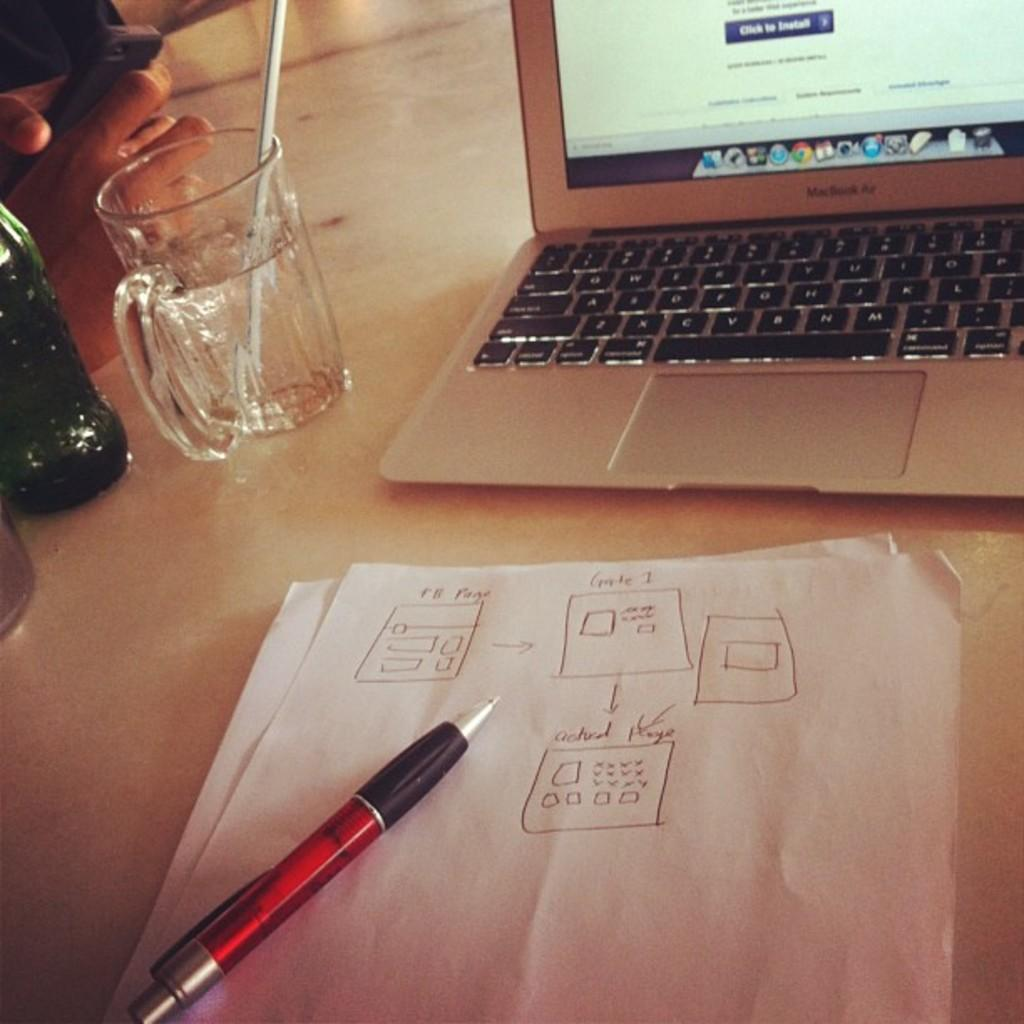pen: (92, 691, 507, 1022)
